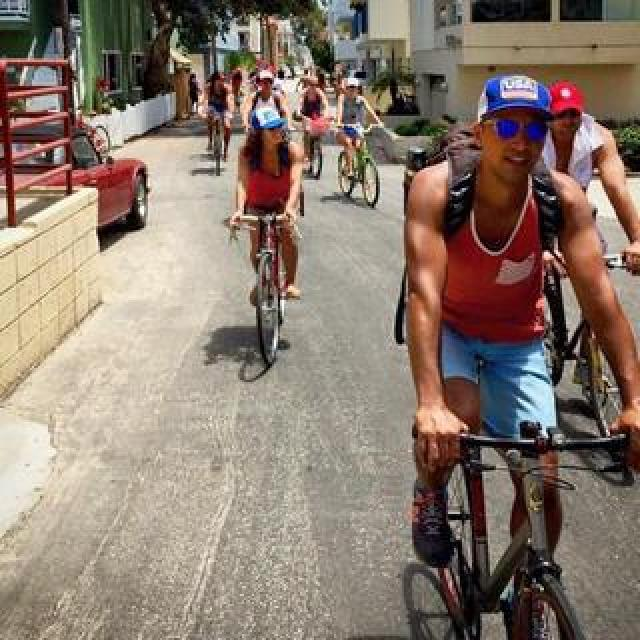Bus-Bike: (4, 110, 152, 244)
MC-Bike: (398, 74, 638, 640), (534, 78, 640, 282), (230, 114, 308, 304), (242, 72, 292, 176), (330, 78, 382, 172), (296, 74, 330, 174), (206, 70, 232, 144)
Person: (402, 416, 610, 640), (228, 208, 302, 380), (336, 126, 382, 210), (204, 112, 230, 176)
